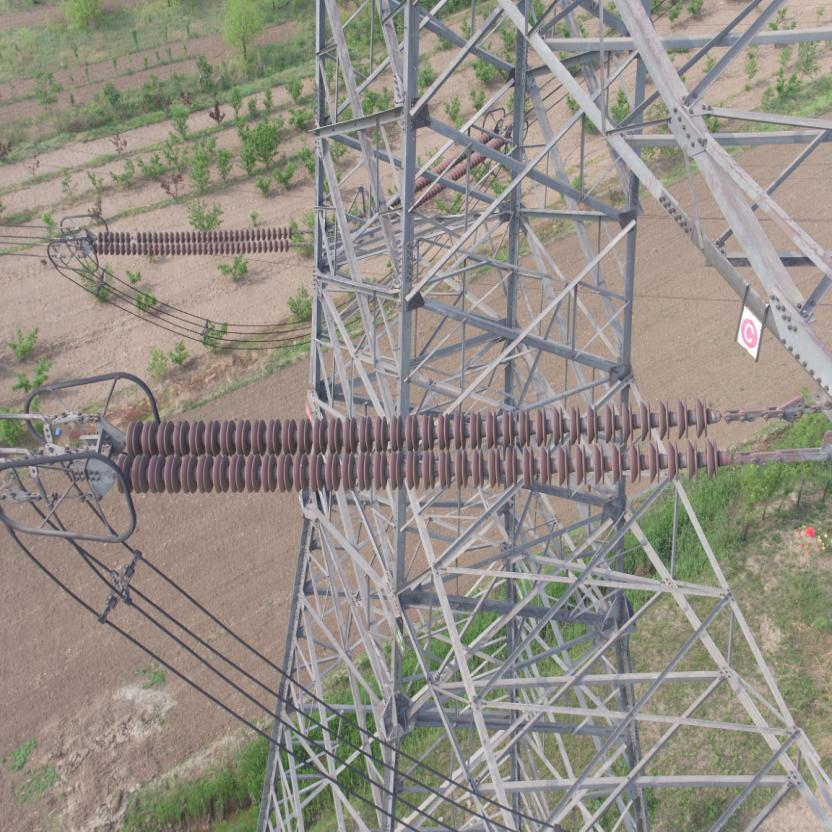insulator: (105, 392, 763, 494), (88, 223, 304, 257)
